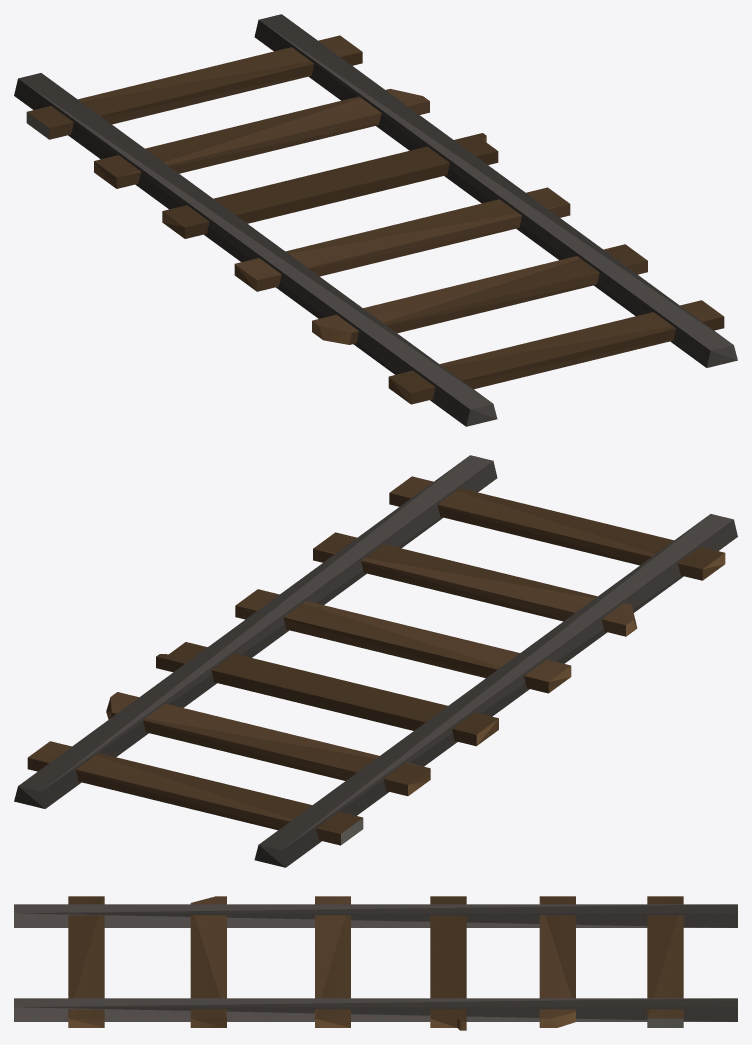
File: Rail.fbx
The picture shows the model from 3 angles, top to bottom: view 1: azimuth 30°, elevation 25°; view 2: azimuth 150°, elevation 25°; view 3: azimuth 270°, elevation 25°; orthographic projection. The views are drawn at different scales.
Visible parts, largest first — view 1: polySurface486; view 2: polySurface486; view 3: polySurface486.
Part boxes in pixels (bbox=[...]): polySurface486: bbox=[14, 14, 737, 426]; polySurface486: bbox=[14, 455, 737, 867]; polySurface486: bbox=[14, 896, 737, 1030].
Bounding box in the file's own units: 205 × 10 × 500.
1 material, 1 textured.
